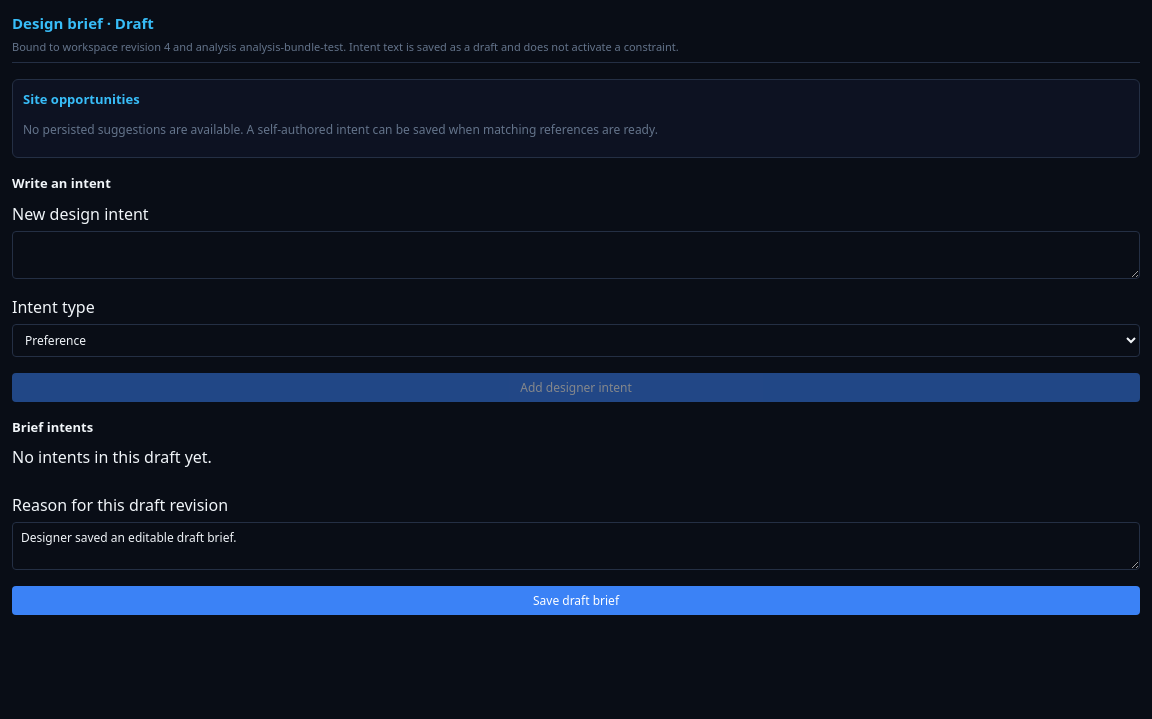
Test: DesignBriefPanel › saves and reloads a designer-authored intent with workspace and input preconditions
Type "Keep a clear walking route through this area." into the text box labelled "New design intent".
click(576, 255); type("Keep a clear walking route through this area.")  # box [12, 231, 1140, 279]
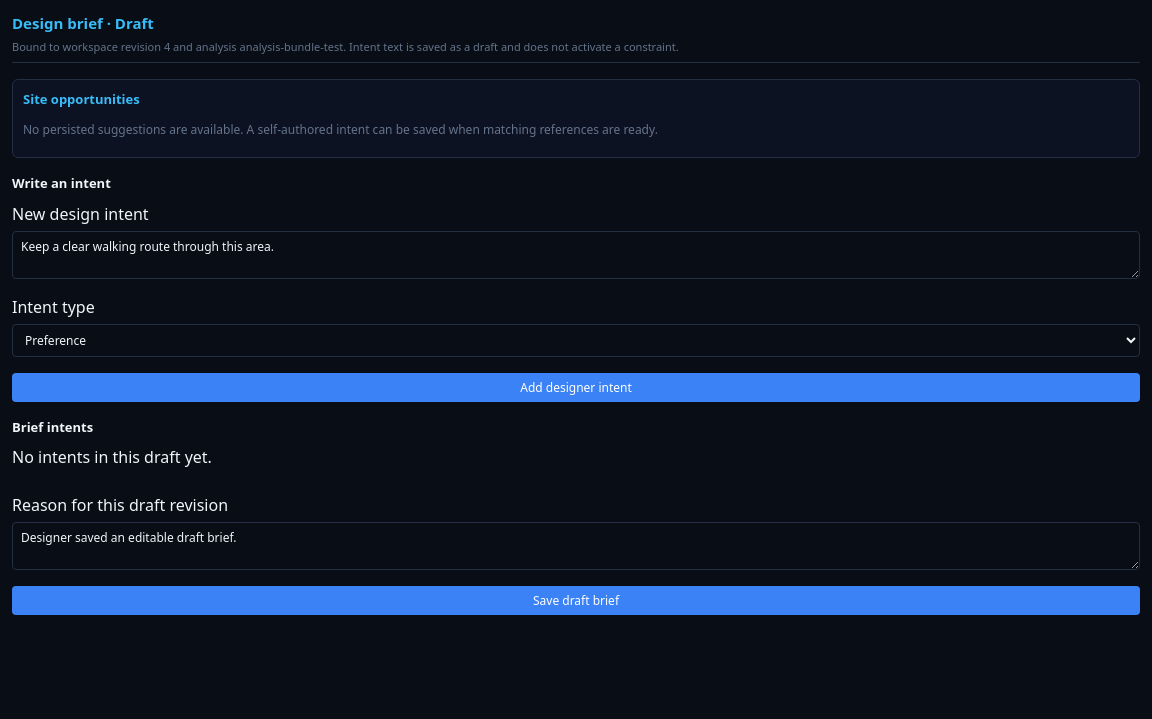
Click the button "Add designer intent".
click(576, 387)  # box [12, 373, 1140, 402]
(page scrolled)
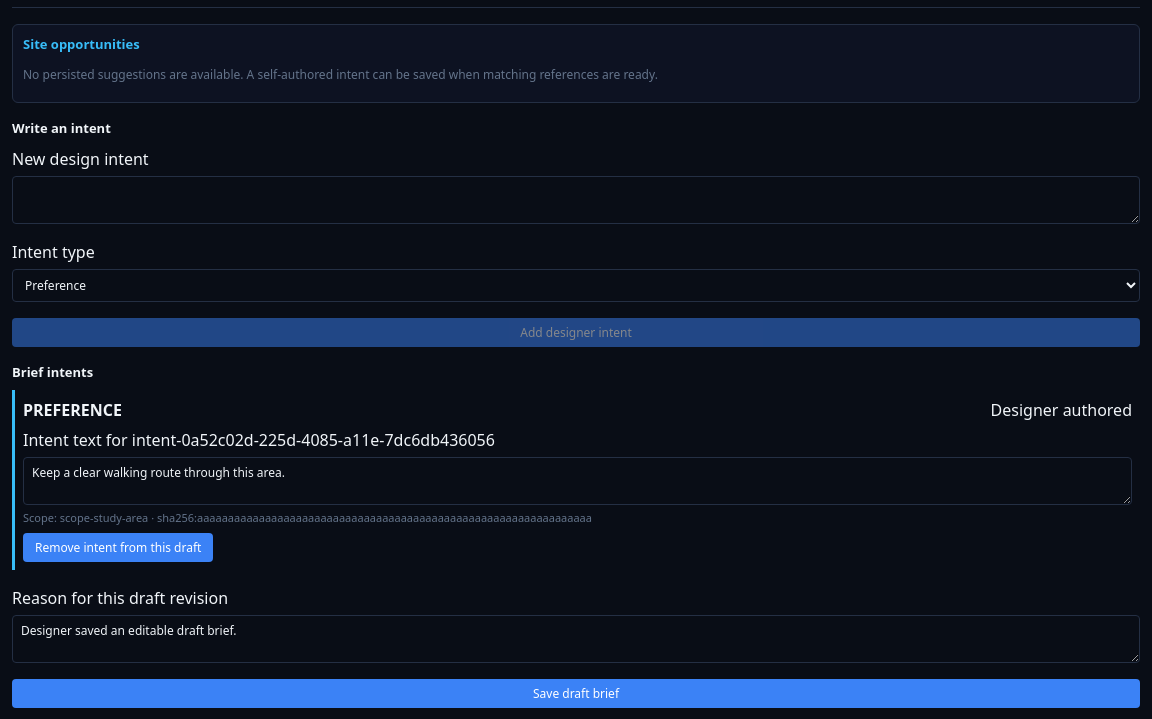
Click the button "Save draft brief".
click(576, 693)  # box [12, 679, 1140, 708]
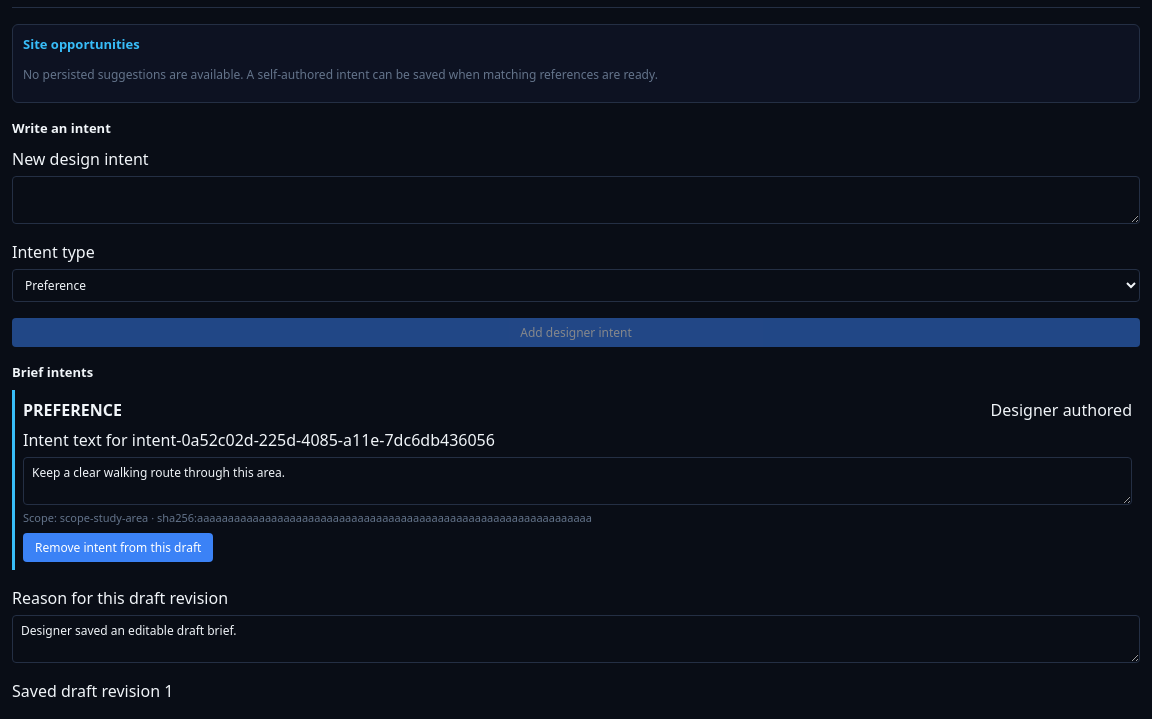
Expected: the text "Saved draft revision 1" is shown, [12, 680, 173, 702]
